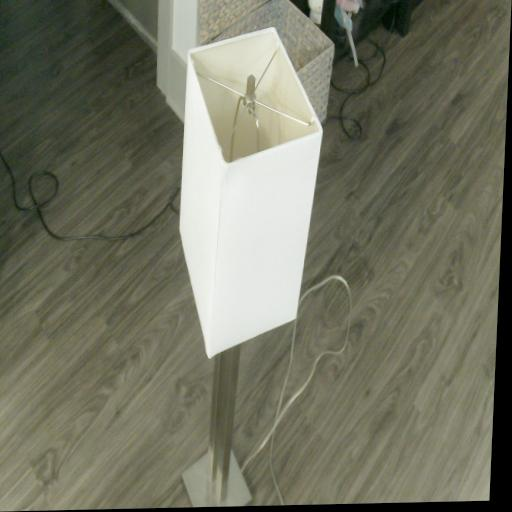lamp: (166, 25, 328, 508)
